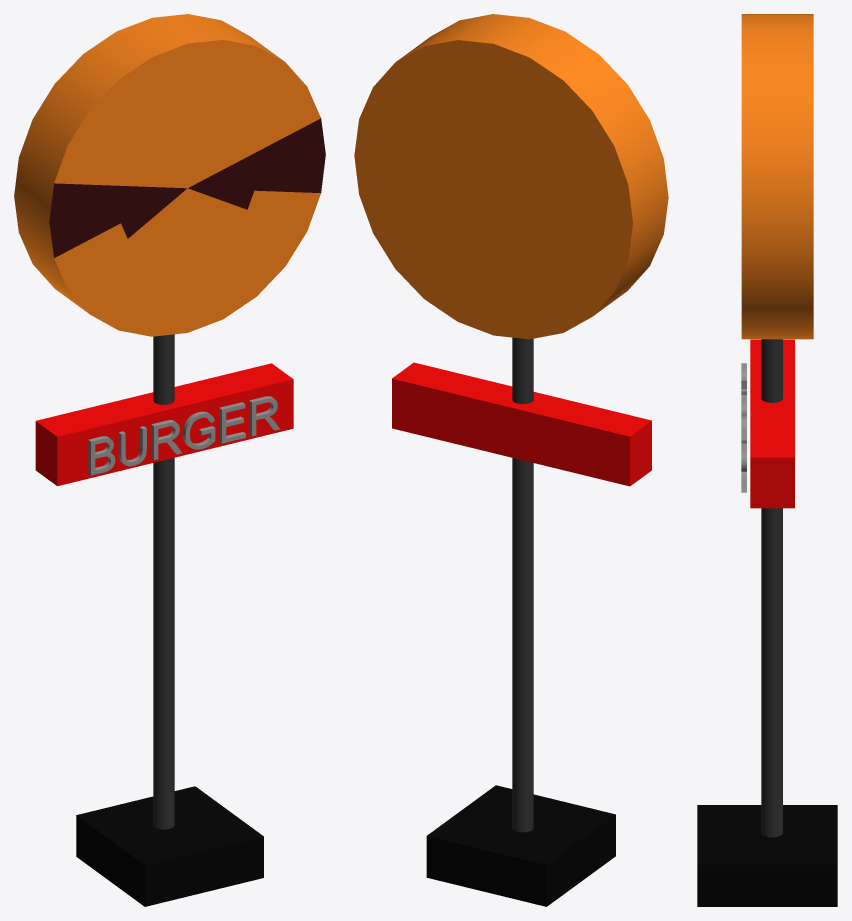
The model's file is BURGER post.fbx.
The picture shows the model from 3 angles, left to right: view 1: azimuth 30°, elevation 25°; view 2: azimuth 150°, elevation 25°; view 3: azimuth 270°, elevation 25°; orthographic projection. The views are drawn at different scales.
Parts seen in each view (by area): view 1: Cone005, Box229, Box230, Cone006, Text005; view 2: Cone005, Box230, Box229, Cone006; view 3: Cone005, Box229, Cone006, Box230, Text005.
Part boxes in pixels (box(x1,y1,x2,y2)): Cone005: box(14, 14, 325, 336); Box229: box(76, 786, 263, 906); Box230: box(35, 363, 293, 486); Cone006: box(153, 334, 174, 829); Text005: box(88, 396, 280, 475); Cone005: box(354, 14, 668, 339); Box230: box(392, 362, 651, 486); Box229: box(426, 785, 615, 906); Cone006: box(512, 337, 533, 832); Cone005: box(741, 14, 813, 339); Box229: box(697, 805, 837, 906); Cone006: box(761, 339, 782, 837); Box230: box(750, 339, 794, 508); Text005: box(741, 363, 746, 492).
Bounding box in the file's own units: 41.31 × 119 × 17.78.
